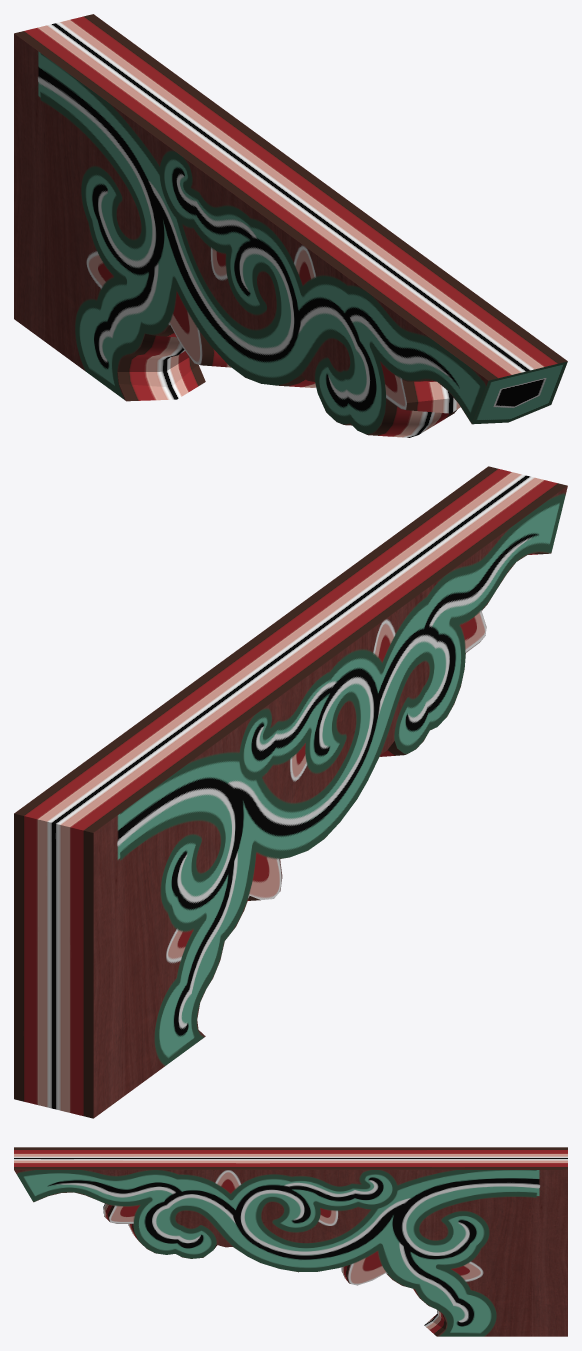
The model's file is SM_Boaji02E.fbx.
3 views of the same model, one above another, from view 1: azimuth 30°, elevation 25°; view 2: azimuth 150°, elevation 25°; view 3: azimuth 270°, elevation 25° (orthographic). The views are drawn at different scales.
Parts seen in each view (by area): view 1: SM_Boaji02E; view 2: SM_Boaji02E; view 3: SM_Boaji02E.
Part boxes in pixels (bbox=[...]): SM_Boaji02E: bbox=[14, 14, 567, 437]; SM_Boaji02E: bbox=[14, 466, 567, 1118]; SM_Boaji02E: bbox=[14, 1147, 567, 1336].
Bounding box in the file's own units: 9.96 × 103 × 34.18.
